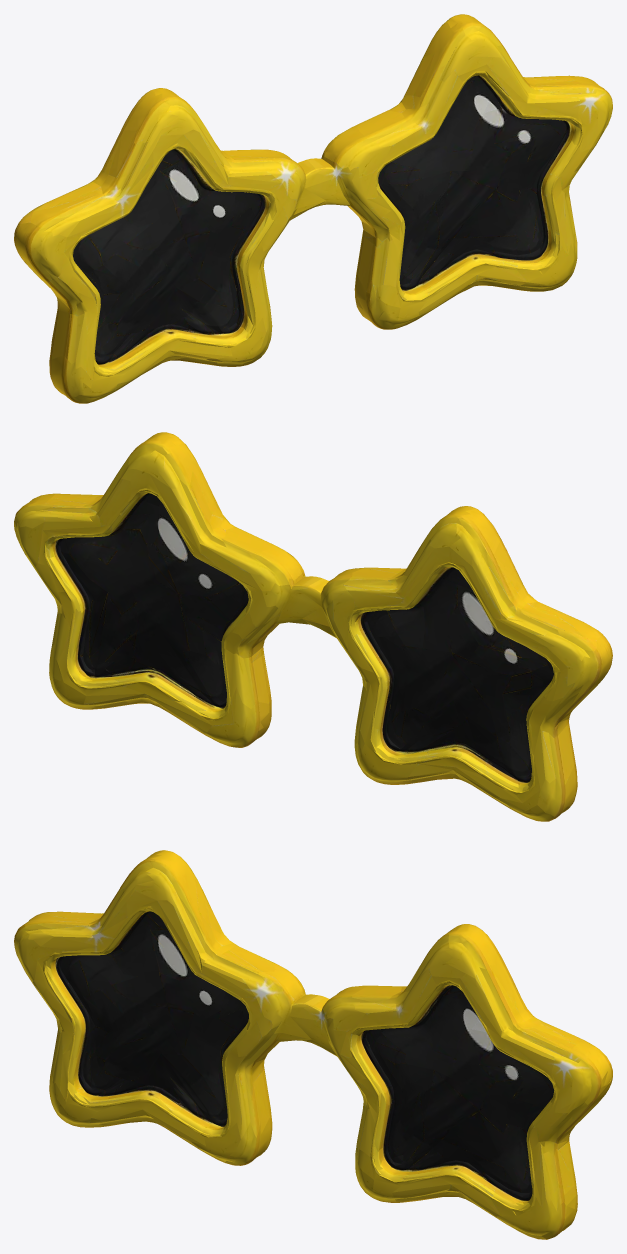
The model's file is star_shades.glb.
3 renders of one model, top to bottom at view 1: azimuth 30°, elevation 25°; view 2: azimuth 150°, elevation 25°; view 3: azimuth 330°, elevation 25°, orthographic.
Visible parts, largest first — view 1: Mesh_0; view 2: Mesh_0; view 3: Mesh_0.
Part boxes in pixels (x1,y1,x2,y2): Mesh_0: (14,14,612,403); Mesh_0: (14,432,612,821); Mesh_0: (14,850,612,1239).
Size of the model in its own units: 1 by 0.4671 by 0.0801.
Materials: 1 (1 with a texture image).
